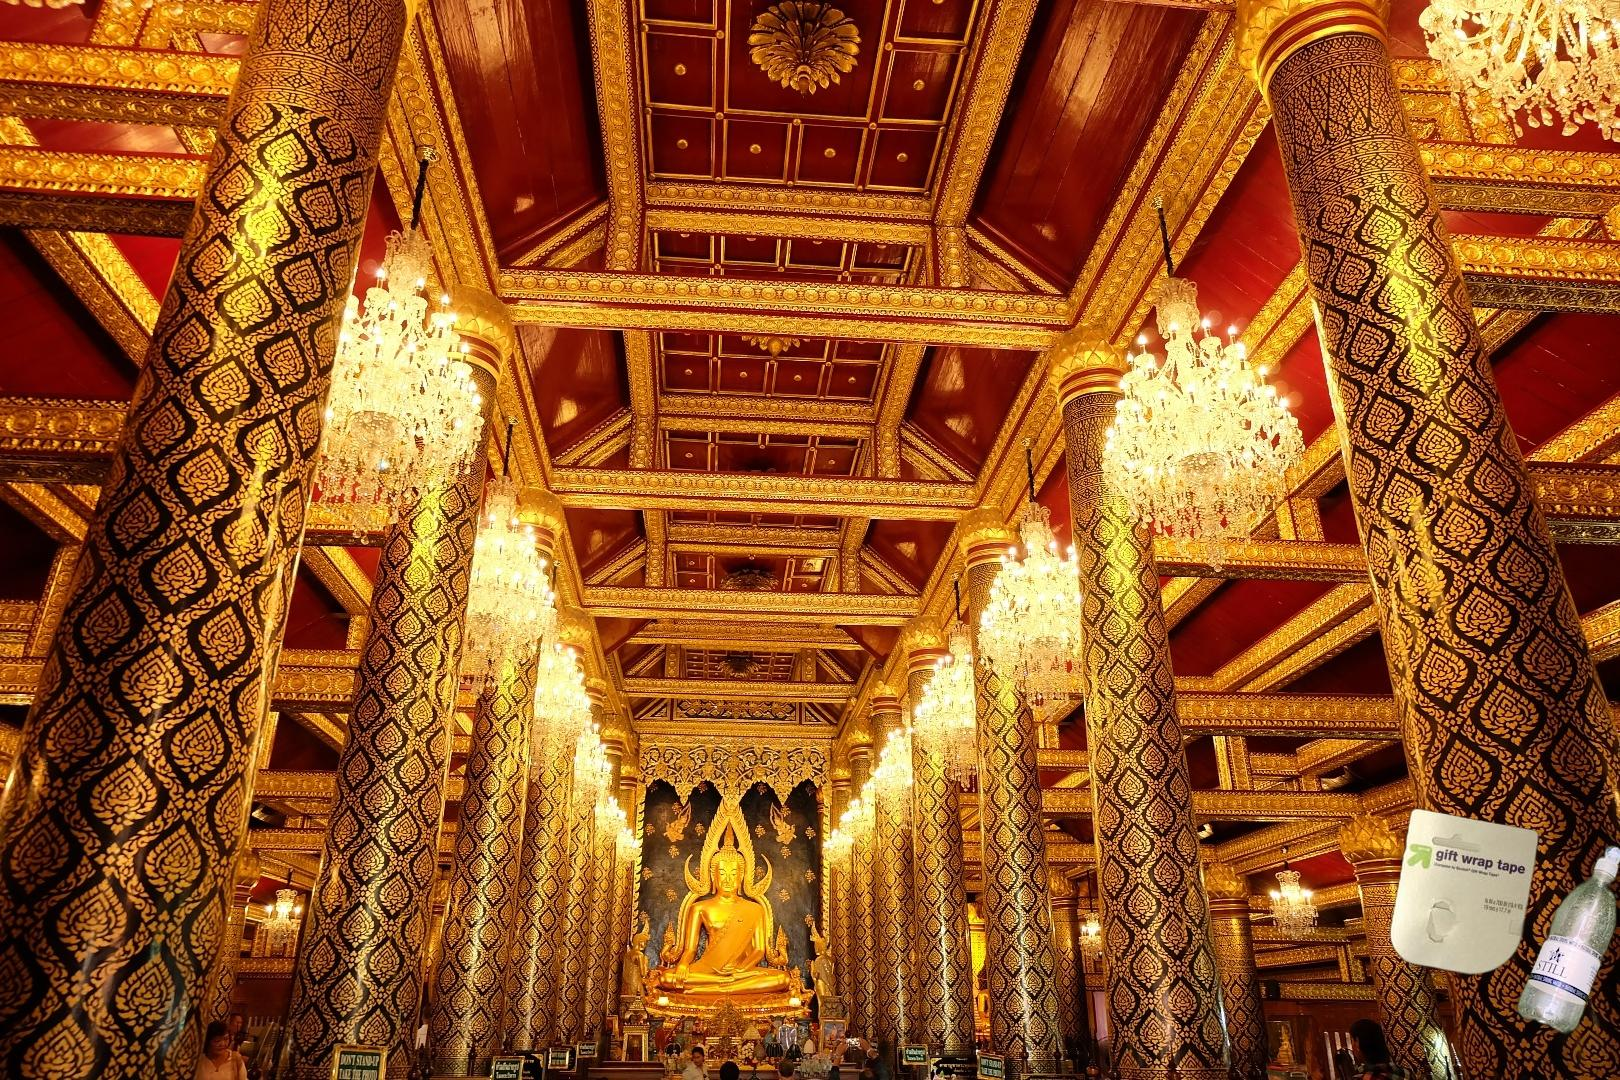paper: (1385, 805, 1543, 978)
plastic-bottles: (1512, 840, 1620, 1040)
